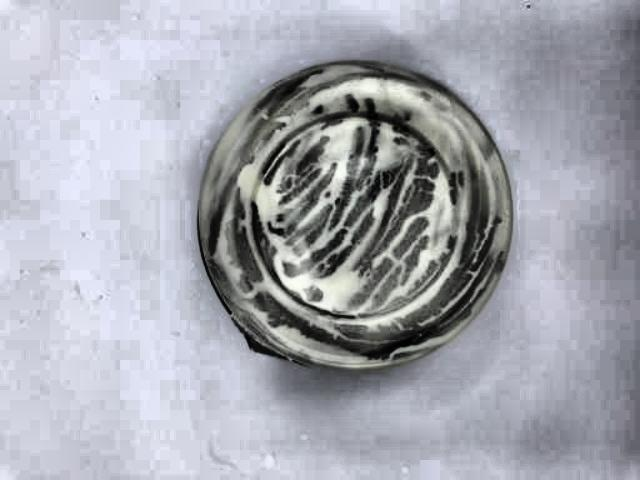Plastic: (196, 62, 523, 372)
